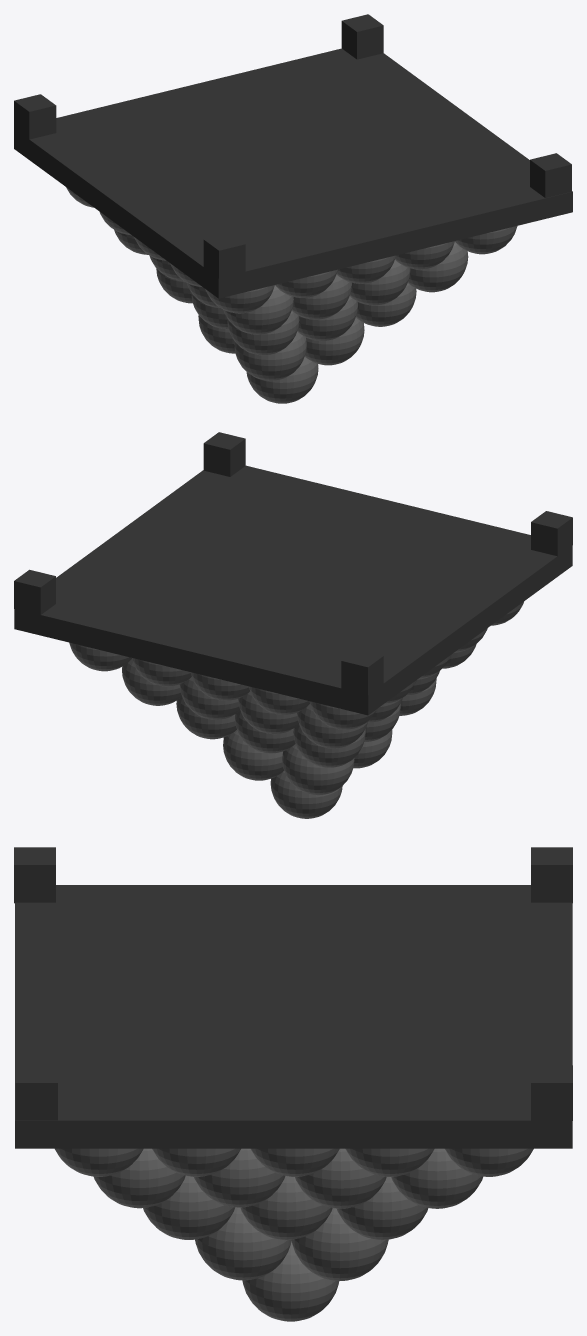
File: CannonAmmoColored.fbx
The picture shows the model from 3 angles, top to bottom: view 1: azimuth 30°, elevation 25°; view 2: azimuth 150°, elevation 25°; view 3: azimuth 270°, elevation 25°; orthographic projection. The views are drawn at different scales.
Visible parts, largest first — view 1: Cube.003; view 2: Cube.003; view 3: Cube.003.
Part boxes in pixels (left/top/right/bottom): Cube.003: left=14, top=14, right=572, bottom=403; Cube.003: left=14, top=432, right=572, bottom=818; Cube.003: left=14, top=847, right=572, bottom=1321.
Bounding box in the file's own units: 34.15 × 24.34 × 34.23.
